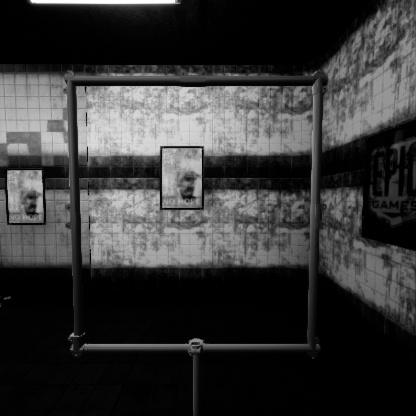gate: (66, 58, 351, 343)
